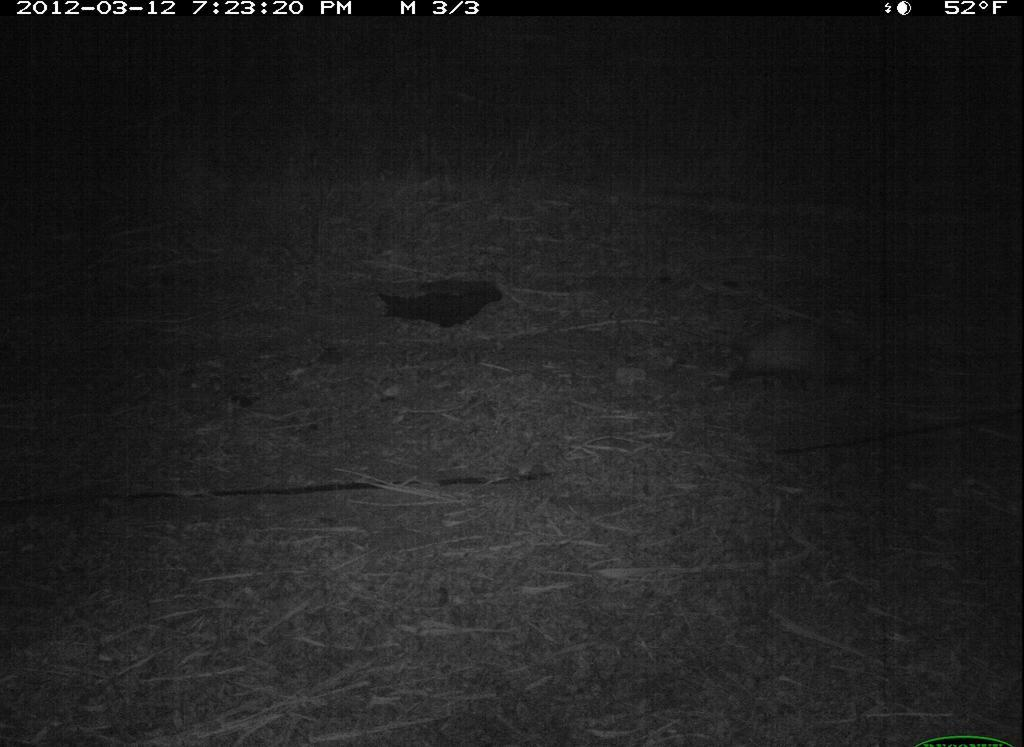opossum: (703, 306, 888, 411)
